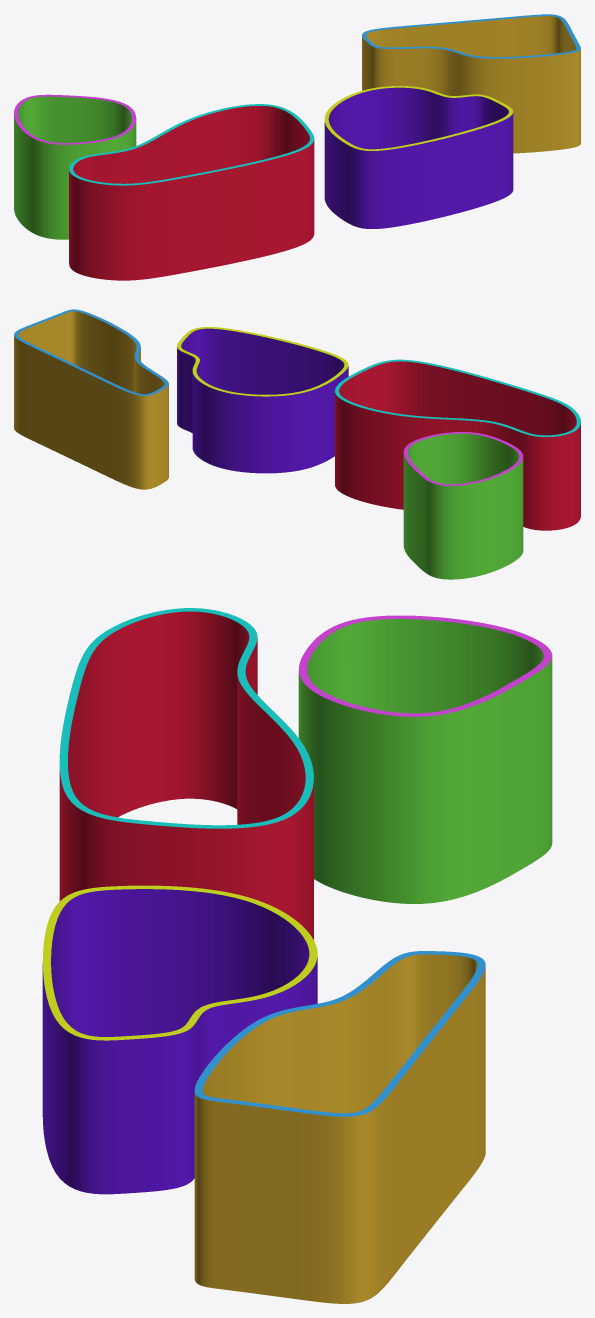
Rendered from VillaMache_Inspired.fbx.
3 renders of one model, top to bottom at view 1: azimuth 30°, elevation 25°; view 2: azimuth 150°, elevation 25°; view 3: azimuth 270°, elevation 25°, orthographic. The views are drawn at different scales.
Visible parts, largest first — view 1: Bulding_D, Building_B, Building_C, Building_A; view 2: Bulding_D, Building_C, Building_B, Building_A; view 3: Building_C, Building_A, Bulding_D, Building_B.
Part boxes in pixels (<box>): Bulding_D: <box>69,104,314,280</box>; Building_B: <box>324,86,513,228</box>; Building_C: <box>362,14,580,153</box>; Building_A: <box>14,94,136,239</box>; Bulding_D: <box>335,359,580,530</box>; Building_C: <box>14,309,168,489</box>; Building_B: <box>177,327,348,473</box>; Building_A: <box>403,432,523,579</box>; Building_C: <box>194,951,485,1303</box>; Building_A: <box>298,615,552,903</box>; Bulding_D: <box>59,608,313,939</box>; Building_B: <box>42,885,317,1194</box>.
Bounding box in the file's own units: 1457 × 250 × 617.
